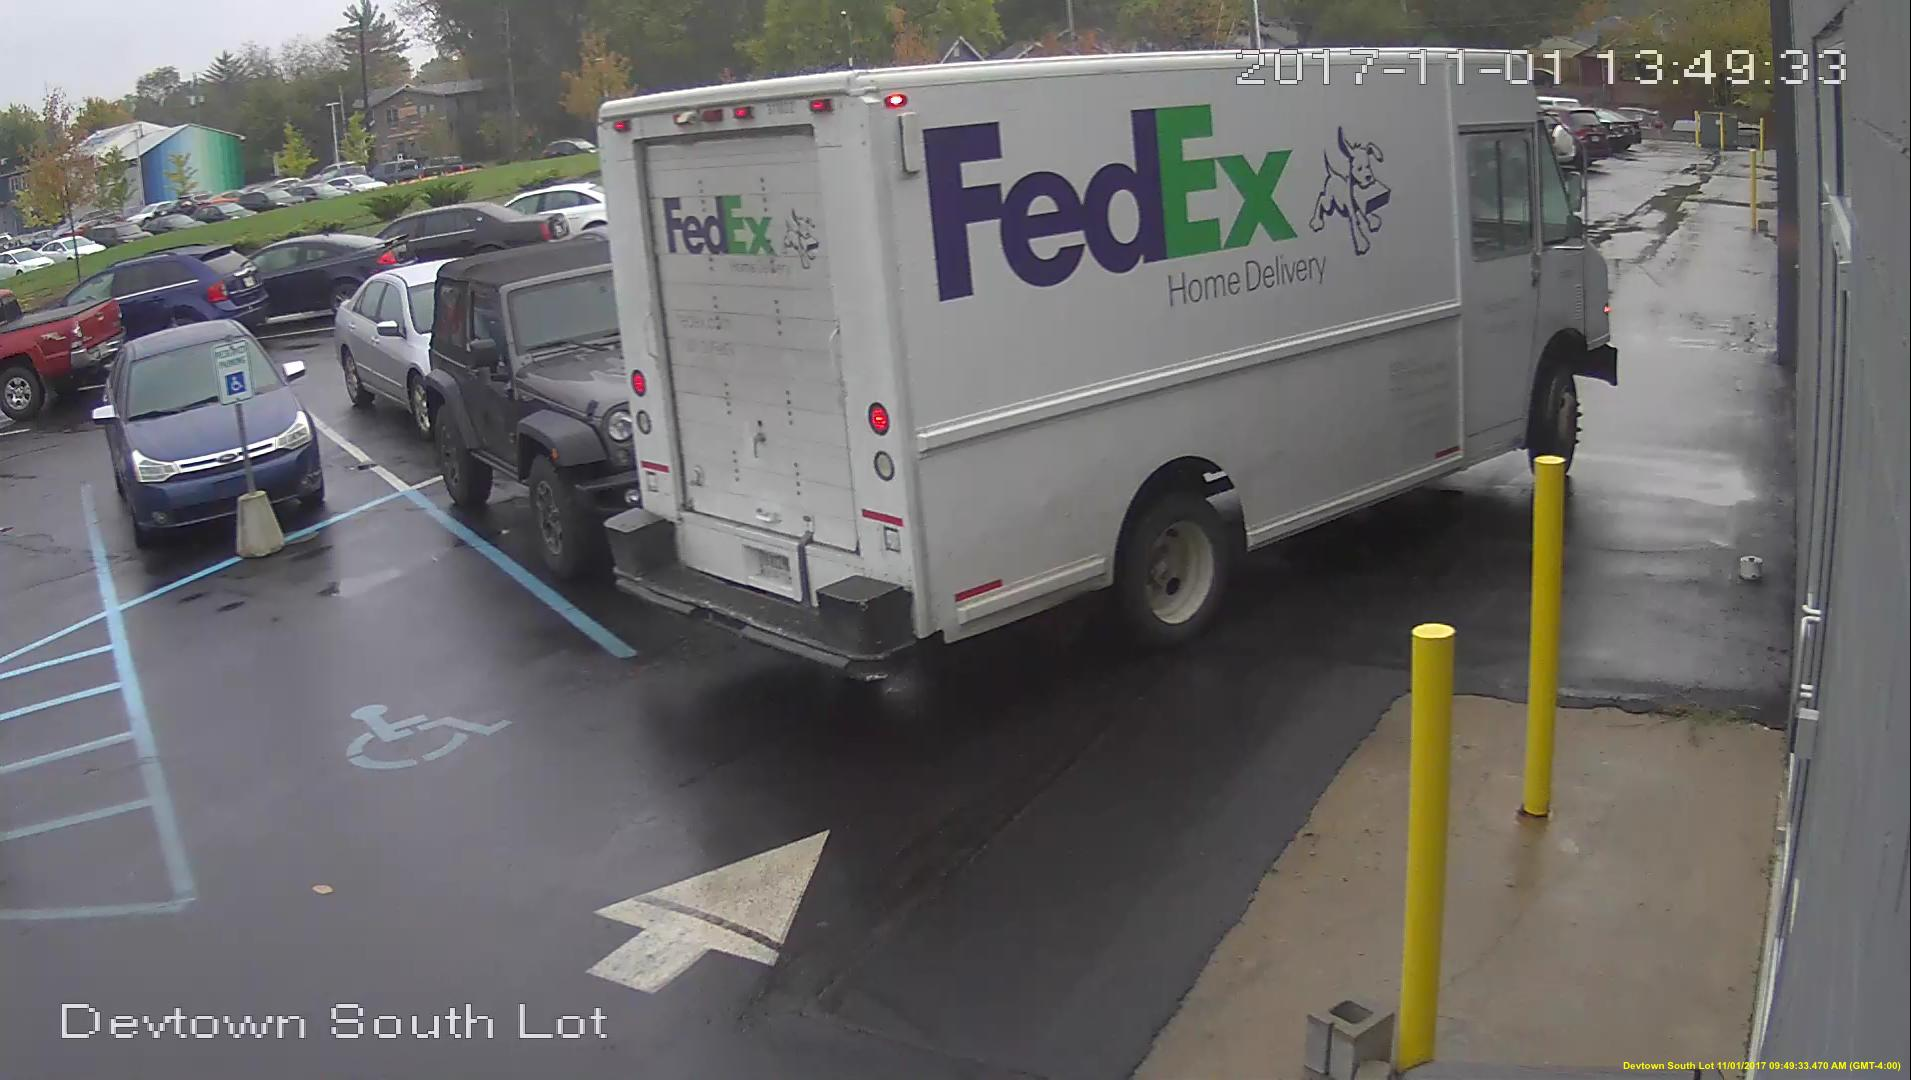fedex_truck: (606, 47, 1606, 685)
